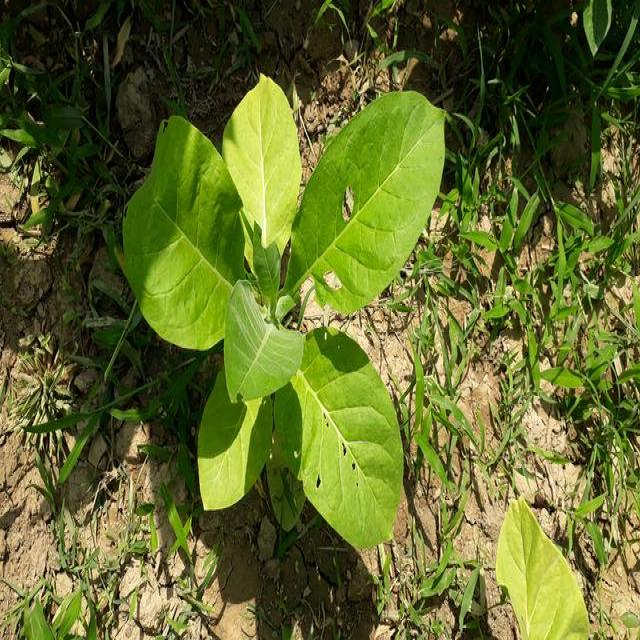crop: (120, 84, 438, 555), (493, 501, 593, 640)
